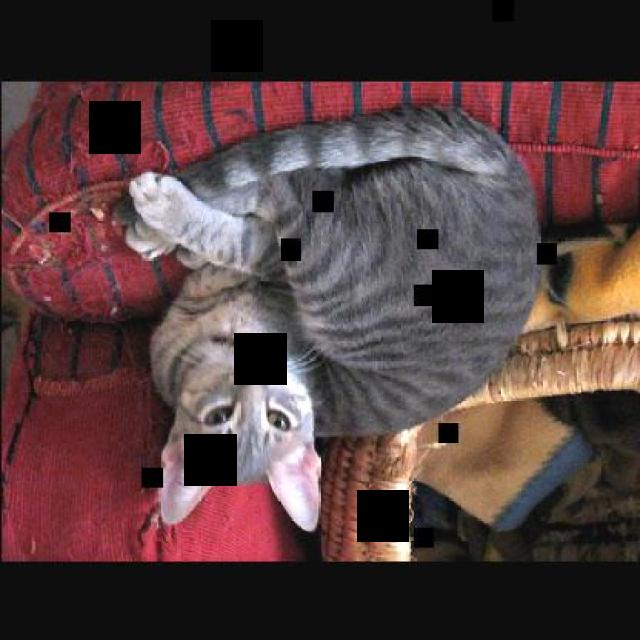unauthorized: (114, 101, 541, 532)
